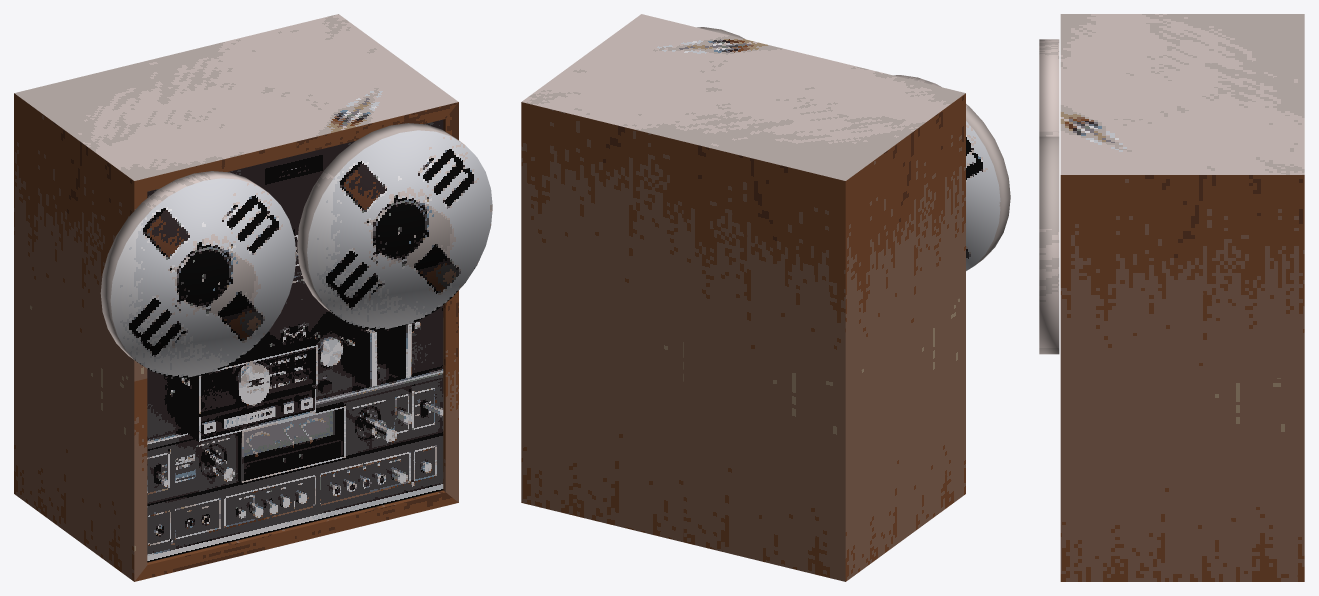
File: tape_recorder.glb
The picture shows the model from 3 angles, left to right: view 1: azimuth 30°, elevation 25°; view 2: azimuth 150°, elevation 25°; view 3: azimuth 270°, elevation 25°; orthographic projection.
Parts seen in each view (by area): view 1: recorder, tape_1, tape_0; view 2: recorder, tape_0; view 3: recorder, tape_1, tape_0.
Part boxes in pixels (left/top/right/bottom): recorder: left=14, top=14, right=458, bottom=581; tape_1: left=297, top=123, right=492, bottom=329; tape_0: left=100, top=171, right=296, bottom=377; recorder: left=521, top=14, right=965, bottom=581; tape_0: left=894, top=75, right=1010, bottom=270; recorder: left=1060, top=14, right=1304, bottom=581; tape_1: left=1039, top=136, right=1059, bottom=354; tape_0: left=1039, top=39, right=1059, bottom=136.
Size of the model in its own units: 0.2611 by 0.2616 by 0.1546.
Materials: 1 (1 with a texture image).
